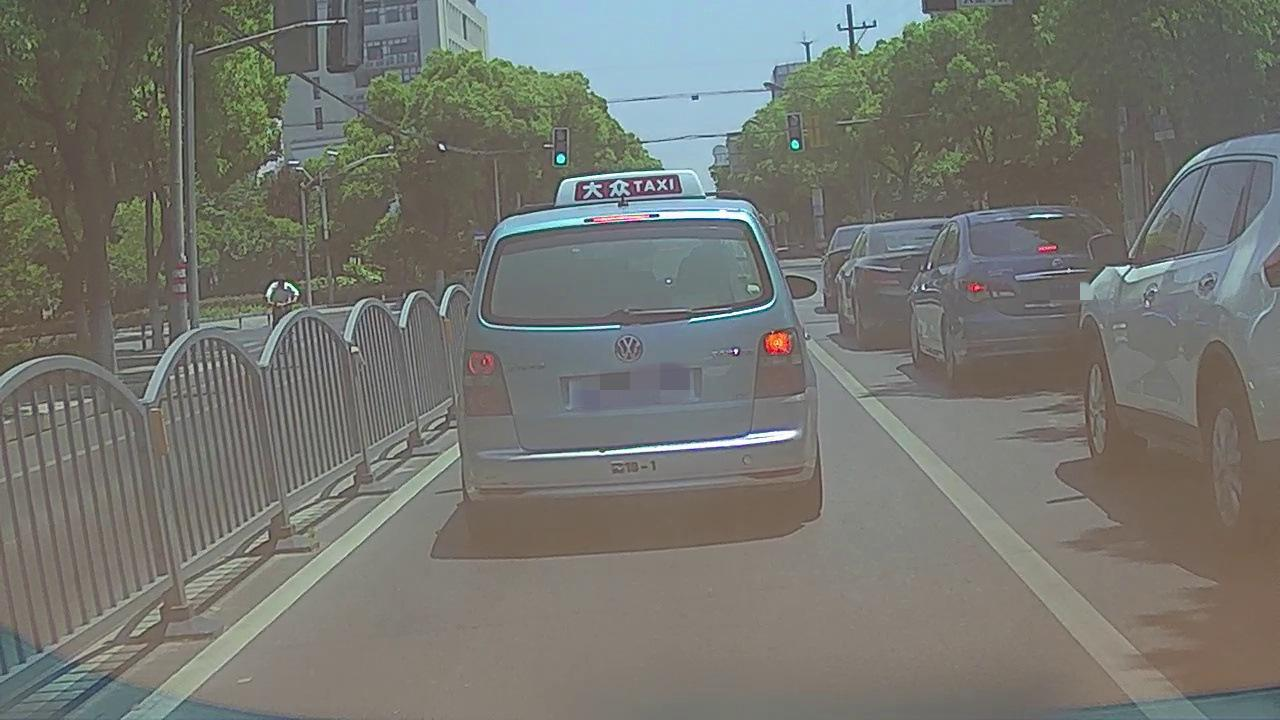traffic_light: (786, 114, 803, 151), (555, 129, 567, 164)
